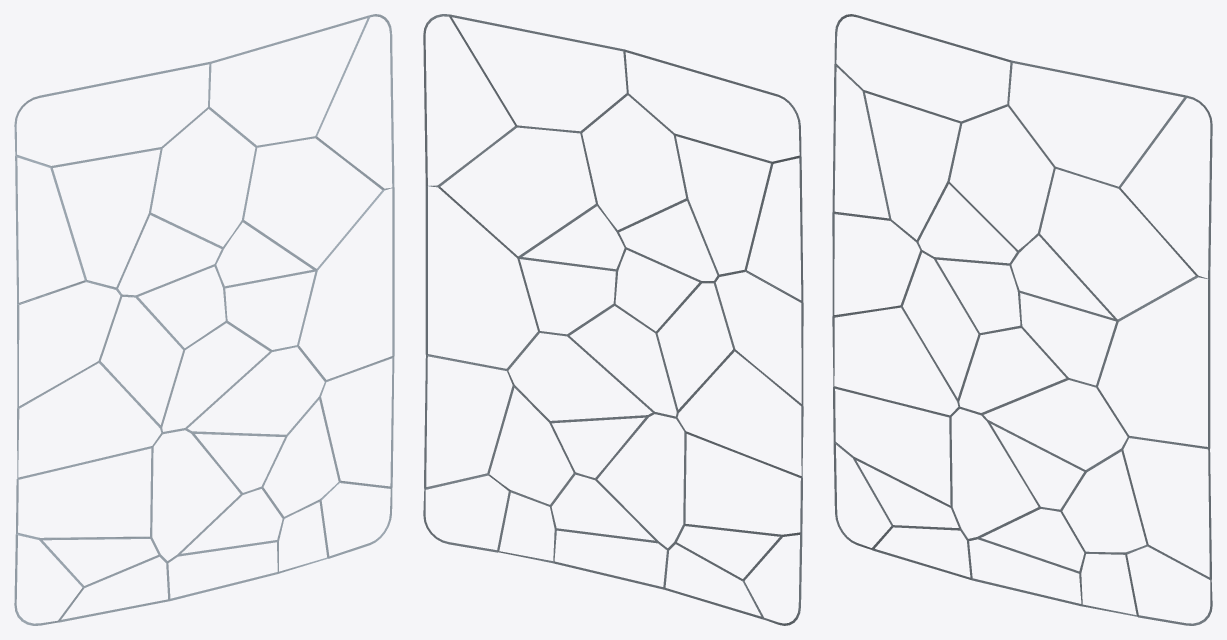
Rendered from ShieldBreak_Cryo_ThinCrackLines.fbx.
3 views of the same model, side by side, from view 1: azimuth 30°, elevation 25°; view 2: azimuth 150°, elevation 25°; view 3: azimuth 330°, elevation 25° (orthographic).
Visible parts, largest first — view 1: PART_ThinCrack_18_0, PART_ThinCrack_15_0, PART_ThinCrack_21_0, PART_ThinCrack_8_0, PART_ThinCrack_6_0, PART_ThinCrack_12_0, PART_ThinCrack_24_0, PART_ThinCrack_16_0, PART_ThinCrack_14_0, PART_ThinCrack_25_0, PART_ThinCrack_19_0, PART_ThinCrack_17_0 (+9 smaller); view 2: PART_ThinCrack_18_0, PART_ThinCrack_15_0, PART_ThinCrack_21_0, PART_ThinCrack_8_0, PART_ThinCrack_14_0, PART_ThinCrack_25_0, PART_ThinCrack_24_0, PART_ThinCrack_16_0, PART_ThinCrack_6_0, PART_ThinCrack_13_0, PART_ThinCrack_19_0, PART_ThinCrack_23_0 (+8 smaller); view 3: PART_ThinCrack_15_0, PART_ThinCrack_21_0, PART_ThinCrack_18_0, PART_ThinCrack_8_0, PART_ThinCrack_16_0, PART_ThinCrack_12_0, PART_ThinCrack_6_0, PART_ThinCrack_24_0, PART_ThinCrack_25_0, PART_ThinCrack_14_0, PART_ThinCrack_17_0, PART_ThinCrack_13_0 (+8 smaller).
Part boxes in pixels (x1=…): PART_ThinCrack_18_0: x1=14, y1=62, x2=211, y2=167; PART_ThinCrack_15_0: x1=298, y1=187, x2=394, y2=381; PART_ThinCrack_21_0: x1=208, y1=15, x2=370, y2=147; PART_ThinCrack_8_0: x1=316, y1=14, x2=394, y2=189; PART_ThinCrack_6_0: x1=17, y1=361, x2=162, y2=479; PART_ThinCrack_12_0: x1=15, y1=154, x2=85, y2=304; PART_ThinCrack_24_0: x1=150, y1=428, x2=242, y2=563; PART_ThinCrack_16_0: x1=319, y1=356, x2=394, y2=488; PART_ThinCrack_14_0: x1=17, y1=279, x2=121, y2=408; PART_ThinCrack_25_0: x1=186, y1=345, x2=326, y2=437; PART_ThinCrack_19_0: x1=16, y1=447, x2=152, y2=540; PART_ThinCrack_17_0: x1=149, y1=106, x2=257, y2=247; PART_ThinCrack_18_0: x1=623, y1=49, x2=801, y2=163; PART_ThinCrack_15_0: x1=425, y1=185, x2=539, y2=371; PART_ThinCrack_21_0: x1=449, y1=14, x2=628, y2=133; PART_ThinCrack_8_0: x1=423, y1=14, x2=517, y2=187; PART_ThinCrack_14_0: x1=713, y1=270, x2=803, y2=405; PART_ThinCrack_25_0: x1=507, y1=331, x2=654, y2=423; PART_ThinCrack_24_0: x1=596, y1=411, x2=686, y2=550; PART_ThinCrack_16_0: x1=424, y1=354, x2=514, y2=488; PART_ThinCrack_6_0: x1=675, y1=349, x2=803, y2=477; PART_ThinCrack_13_0: x1=438, y1=125, x2=598, y2=258; PART_ThinCrack_19_0: x1=684, y1=431, x2=802, y2=536; PART_ThinCrack_23_0: x1=674, y1=133, x2=772, y2=276; PART_ThinCrack_15_0: x1=1097, y1=275, x2=1210, y2=449; PART_ThinCrack_21_0: x1=1007, y1=60, x2=1186, y2=188; PART_ThinCrack_18_0: x1=834, y1=14, x2=1012, y2=123; PART_ThinCrack_8_0: x1=1120, y1=95, x2=1212, y2=279; PART_ThinCrack_16_0: x1=1122, y1=435, x2=1211, y2=580; PART_ThinCrack_12_0: x1=832, y1=63, x2=890, y2=219; PART_ThinCrack_6_0: x1=832, y1=306, x2=959, y2=417; PART_ThinCrack_24_0: x1=949, y1=406, x2=1040, y2=541; PART_ThinCrack_25_0: x1=982, y1=378, x2=1129, y2=471; PART_ThinCrack_14_0: x1=832, y1=211, x2=921, y2=316; PART_ThinCrack_17_0: x1=948, y1=104, x2=1055, y2=251; PART_ThinCrack_13_0: x1=1039, y1=166, x2=1198, y2=321.
Size of the model in its own units: 299 by 401 by 17.76.
